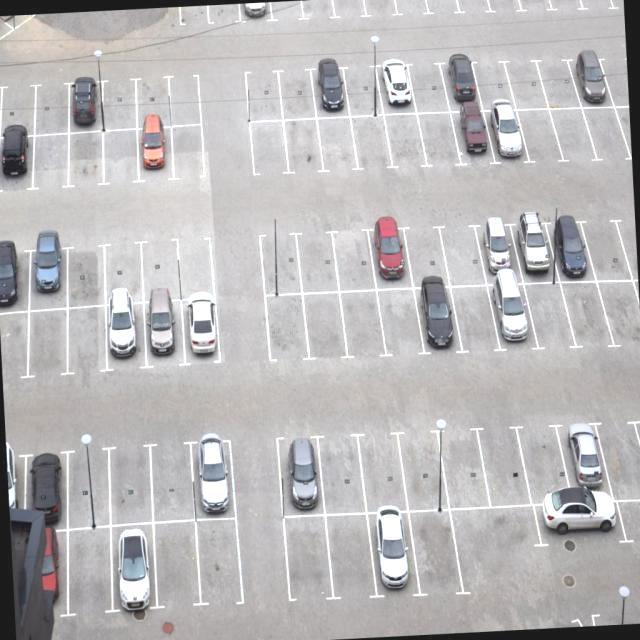space-empty: (194, 517, 243, 608), (150, 521, 200, 610), (63, 526, 113, 614), (326, 513, 375, 599), (410, 510, 458, 595), (283, 514, 330, 600), (152, 444, 198, 524), (110, 445, 156, 525), (444, 426, 488, 509), (361, 429, 405, 511), (483, 427, 527, 509), (66, 448, 111, 528), (403, 429, 445, 512), (322, 434, 365, 514), (524, 426, 568, 502), (600, 419, 640, 500), (64, 305, 109, 375), (527, 278, 572, 348), (455, 286, 500, 355), (584, 215, 630, 282), (24, 309, 68, 379), (340, 289, 384, 359), (562, 282, 607, 350), (375, 289, 419, 358), (264, 292, 308, 361), (301, 293, 344, 362), (260, 232, 302, 298), (106, 240, 147, 306), (442, 220, 484, 284), (601, 280, 640, 348), (405, 223, 447, 286), (298, 230, 338, 296), (67, 244, 108, 308), (335, 229, 375, 294), (142, 238, 181, 303), (178, 236, 214, 301), (586, 106, 627, 163), (384, 112, 424, 169), (350, 115, 390, 172), (250, 120, 290, 177), (418, 110, 457, 168), (317, 116, 356, 172), (283, 118, 322, 174), (554, 107, 592, 164), (523, 109, 562, 164), (34, 132, 72, 188), (67, 129, 104, 186), (0, 312, 30, 382), (104, 128, 142, 183), (507, 54, 544, 110), (247, 66, 284, 122), (542, 54, 578, 110), (477, 56, 514, 110), (345, 61, 382, 115), (279, 64, 315, 118), (104, 79, 140, 132), (136, 73, 172, 126), (36, 83, 71, 137), (411, 62, 447, 114), (171, 124, 205, 178), (0, 86, 35, 138), (171, 72, 204, 125), (605, 50, 629, 107), (619, 498, 640, 549), (205, 4, 243, 27), (268, 0, 304, 23), (179, 4, 212, 28), (299, 0, 334, 21), (362, 0, 398, 20), (332, 0, 367, 20), (391, 0, 427, 18), (423, 1, 459, 18), (457, 0, 493, 16), (486, 0, 521, 16), (578, 0, 615, 15), (547, 0, 584, 15), (519, 0, 555, 15)
space-occupied: (22, 528, 72, 624), (111, 524, 160, 612), (538, 498, 620, 550), (365, 511, 414, 598), (20, 450, 68, 529), (192, 440, 238, 521), (278, 437, 323, 516), (488, 277, 534, 349), (414, 286, 459, 356), (561, 418, 603, 492), (142, 301, 185, 369), (102, 304, 146, 370), (550, 215, 592, 283), (180, 297, 222, 363), (368, 224, 410, 288), (27, 245, 68, 309), (516, 216, 558, 278), (478, 222, 518, 283), (454, 110, 493, 166), (571, 51, 609, 107), (487, 110, 526, 164), (0, 244, 30, 314), (136, 127, 174, 181), (314, 62, 350, 118), (441, 57, 478, 111), (376, 59, 412, 114), (0, 132, 35, 188), (67, 81, 103, 134), (235, 2, 274, 24)
